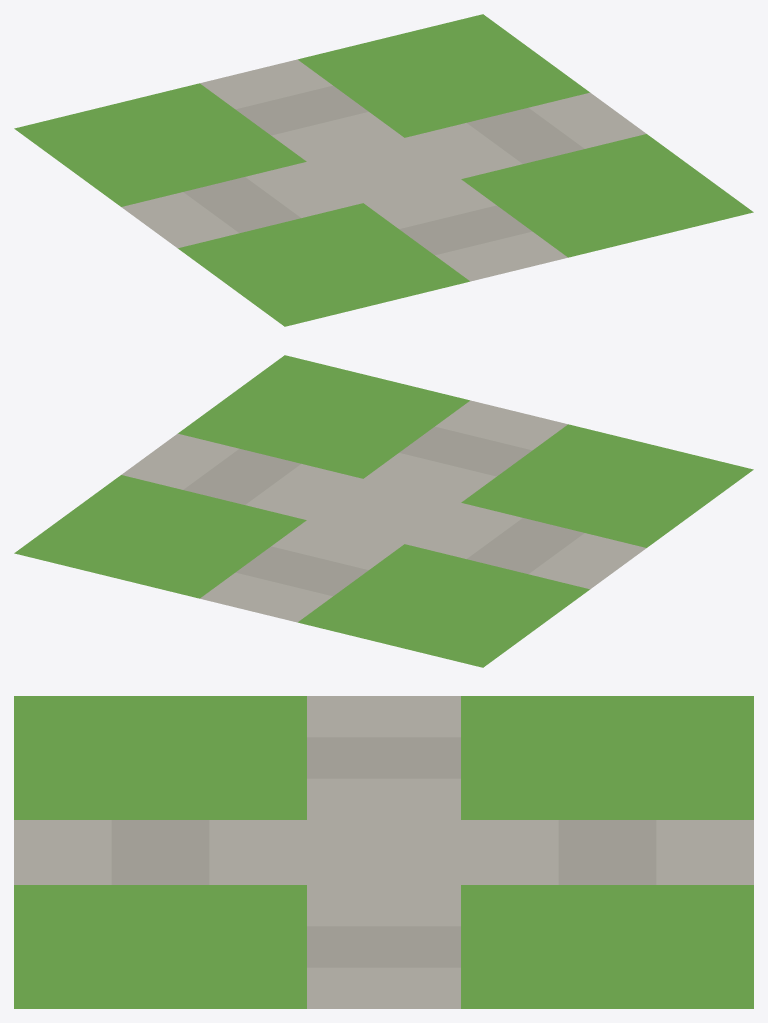
Rendered from calcada-cruzamento.glb.
3 renders of one model, top to bottom at view 1: azimuth 30°, elevation 25°; view 2: azimuth 150°, elevation 25°; view 3: azimuth 270°, elevation 25°, orthographic. The views are drawn at different scales.
Parts seen in each view (by area): view 1: Grama, Calcada; view 2: Grama, Calcada; view 3: Grama, Calcada.
Boxes of the visible parts, x1=… form: Grama: x1=14, y1=14, x2=753, y2=326; Calcada: x1=121, y1=59, x2=646, y2=281; Grama: x1=14, y1=355, x2=753, y2=667; Calcada: x1=121, y1=400, x2=646, y2=622; Grama: x1=14, y1=696, x2=753, y2=1008; Calcada: x1=14, y1=696, x2=753, y2=1008.
Size of the model in its own units: 12 by 0 by 12.
